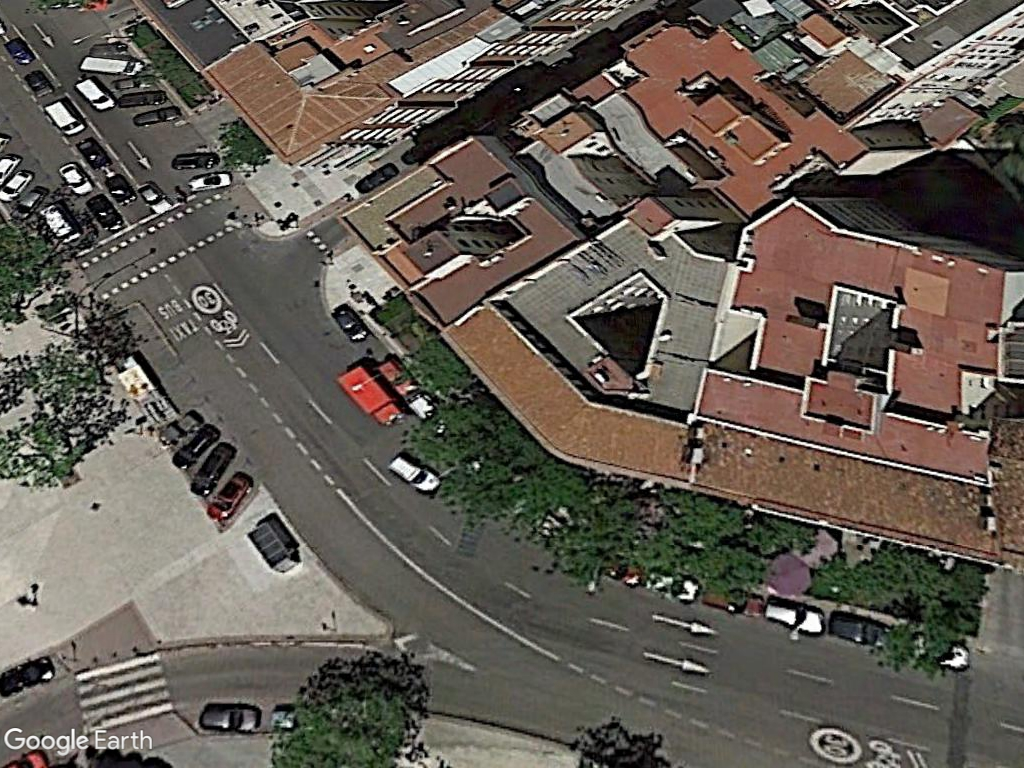car: (198, 702, 263, 734), (134, 181, 174, 217), (57, 163, 95, 196), (187, 172, 235, 194)
truck: (334, 365, 405, 429), (79, 51, 146, 78), (41, 101, 87, 138)
van: (387, 453, 443, 496), (74, 78, 117, 112)
